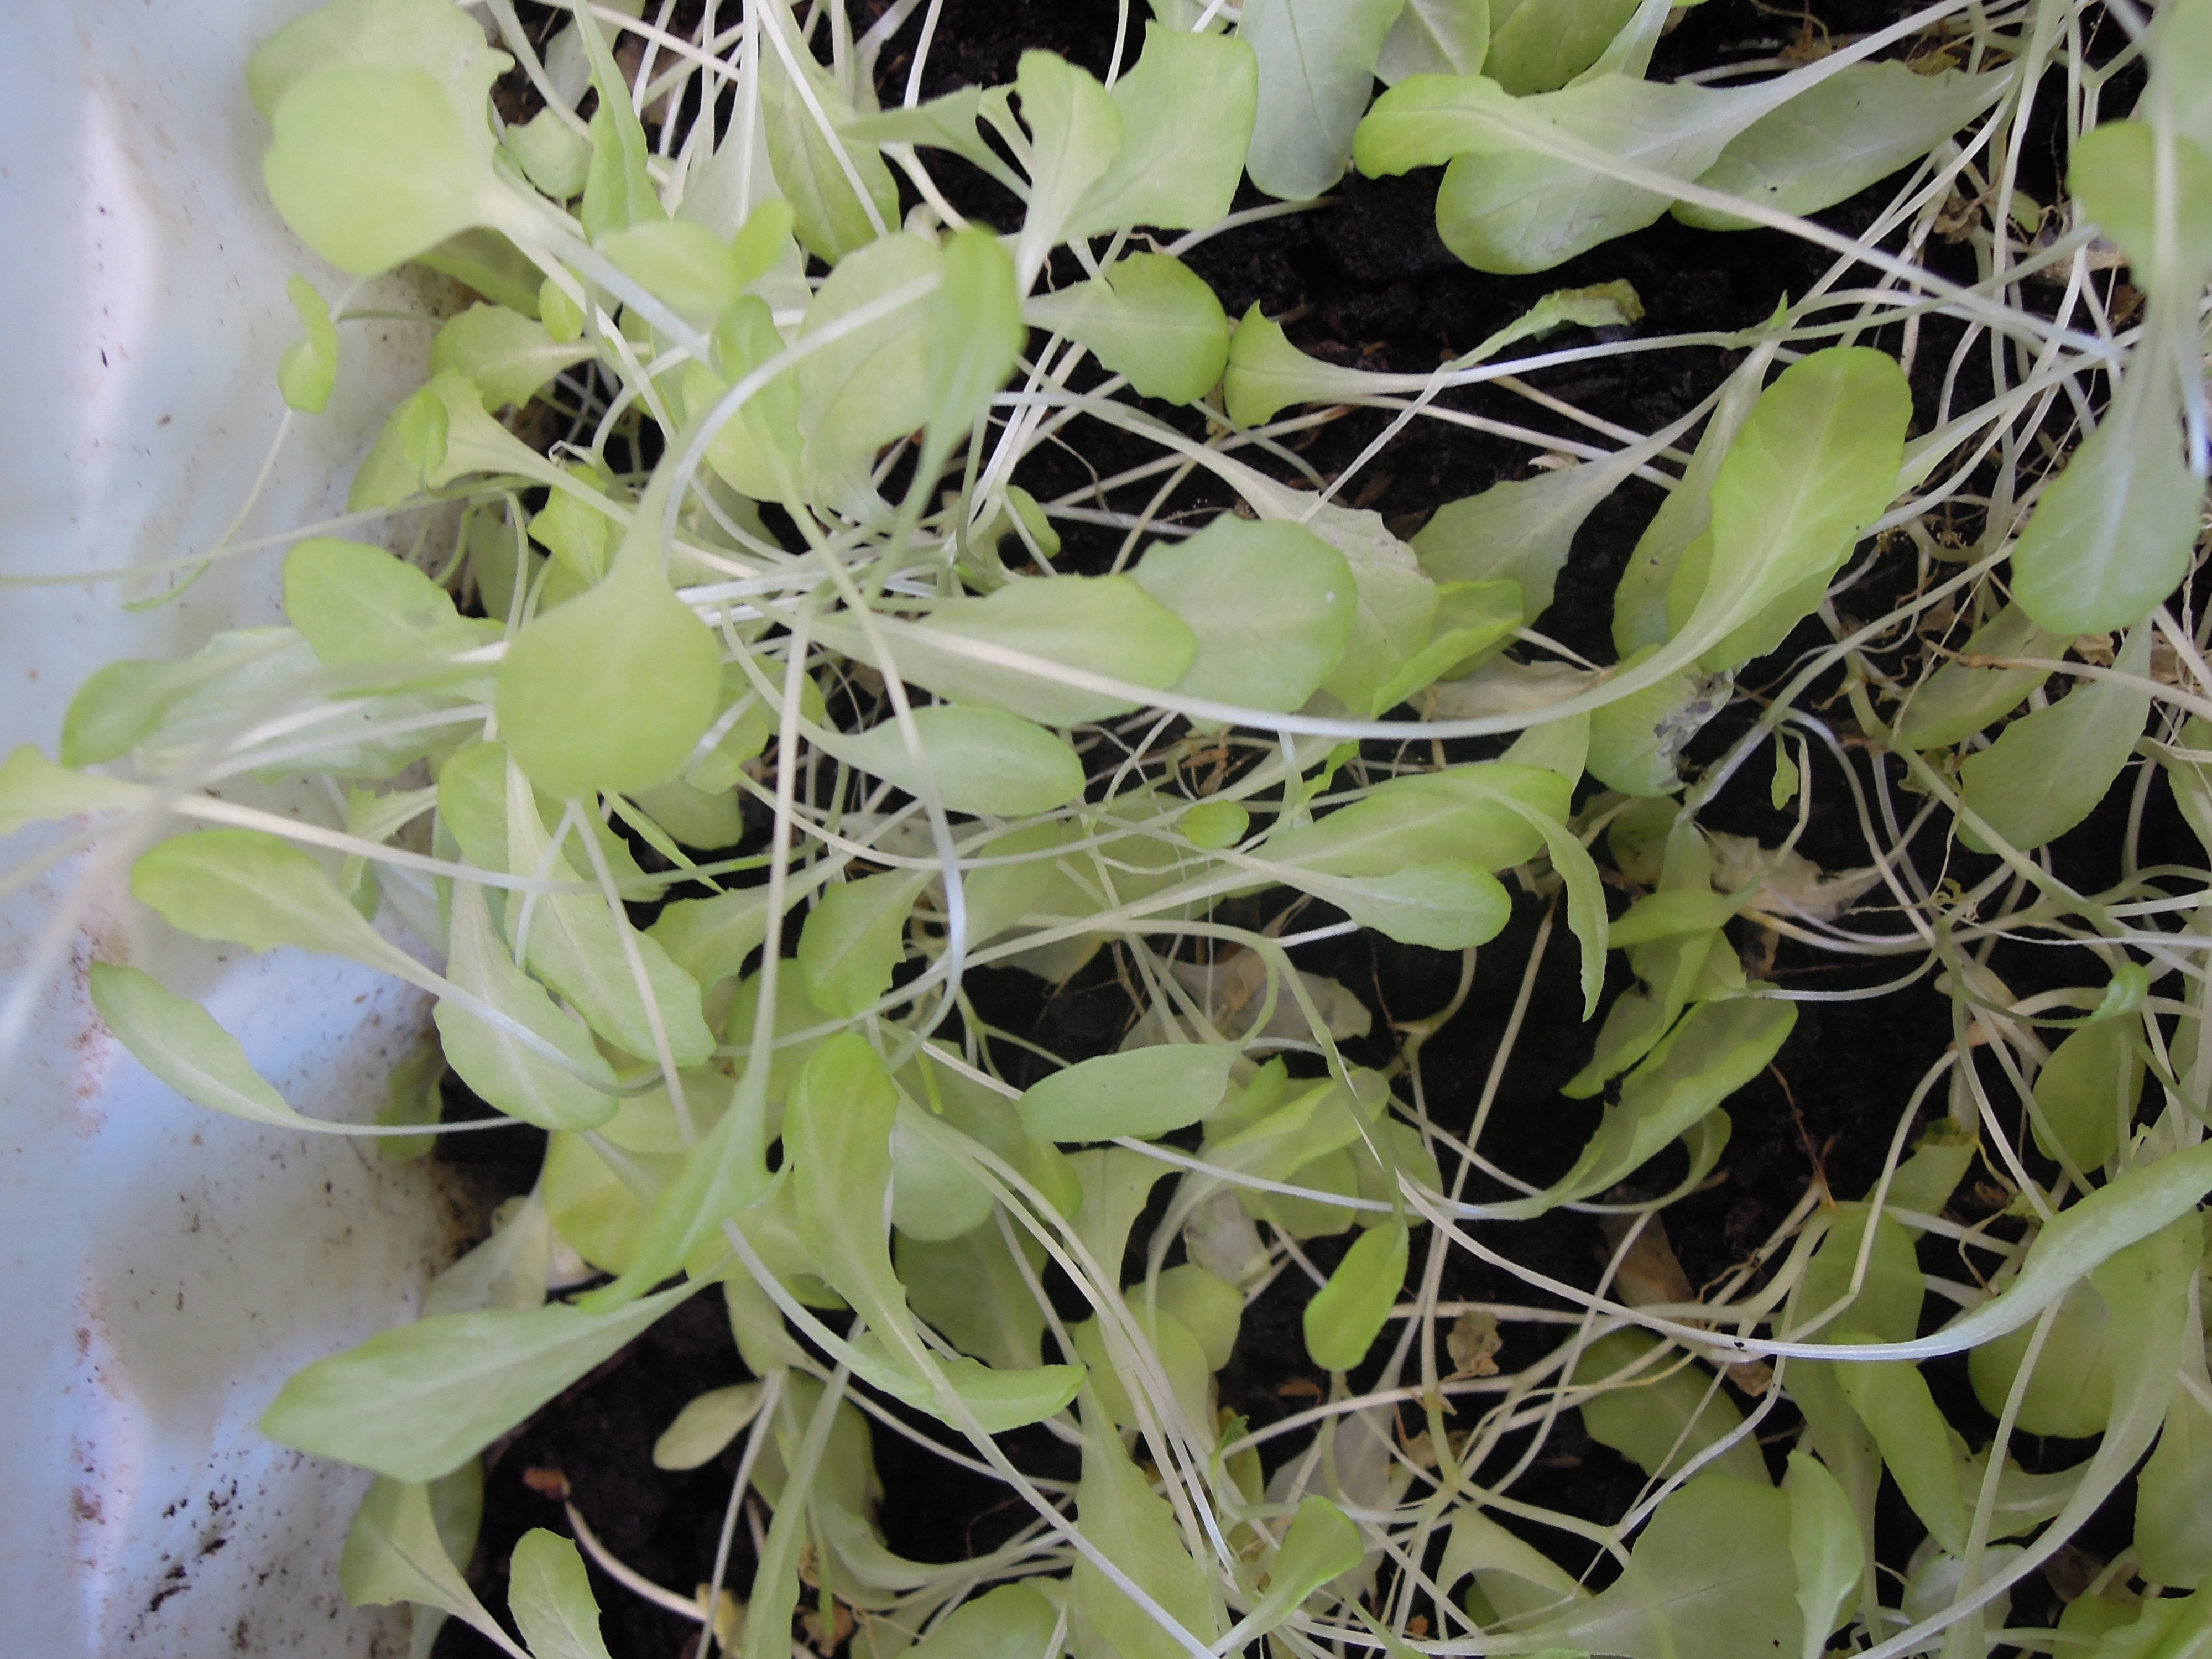weeek6: (49, 265, 1921, 1394)
